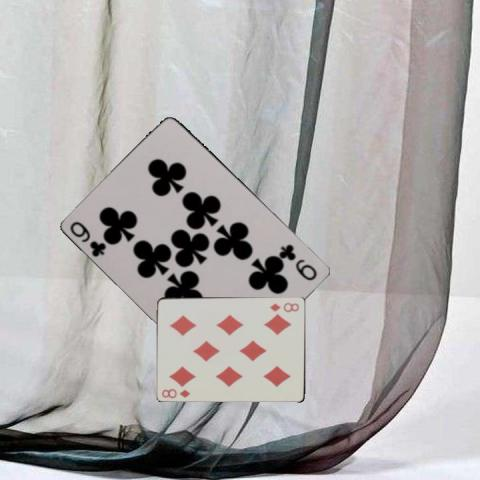8d: (267, 300, 301, 314), (159, 386, 191, 399)
9c: (66, 218, 108, 259), (278, 241, 319, 282)
